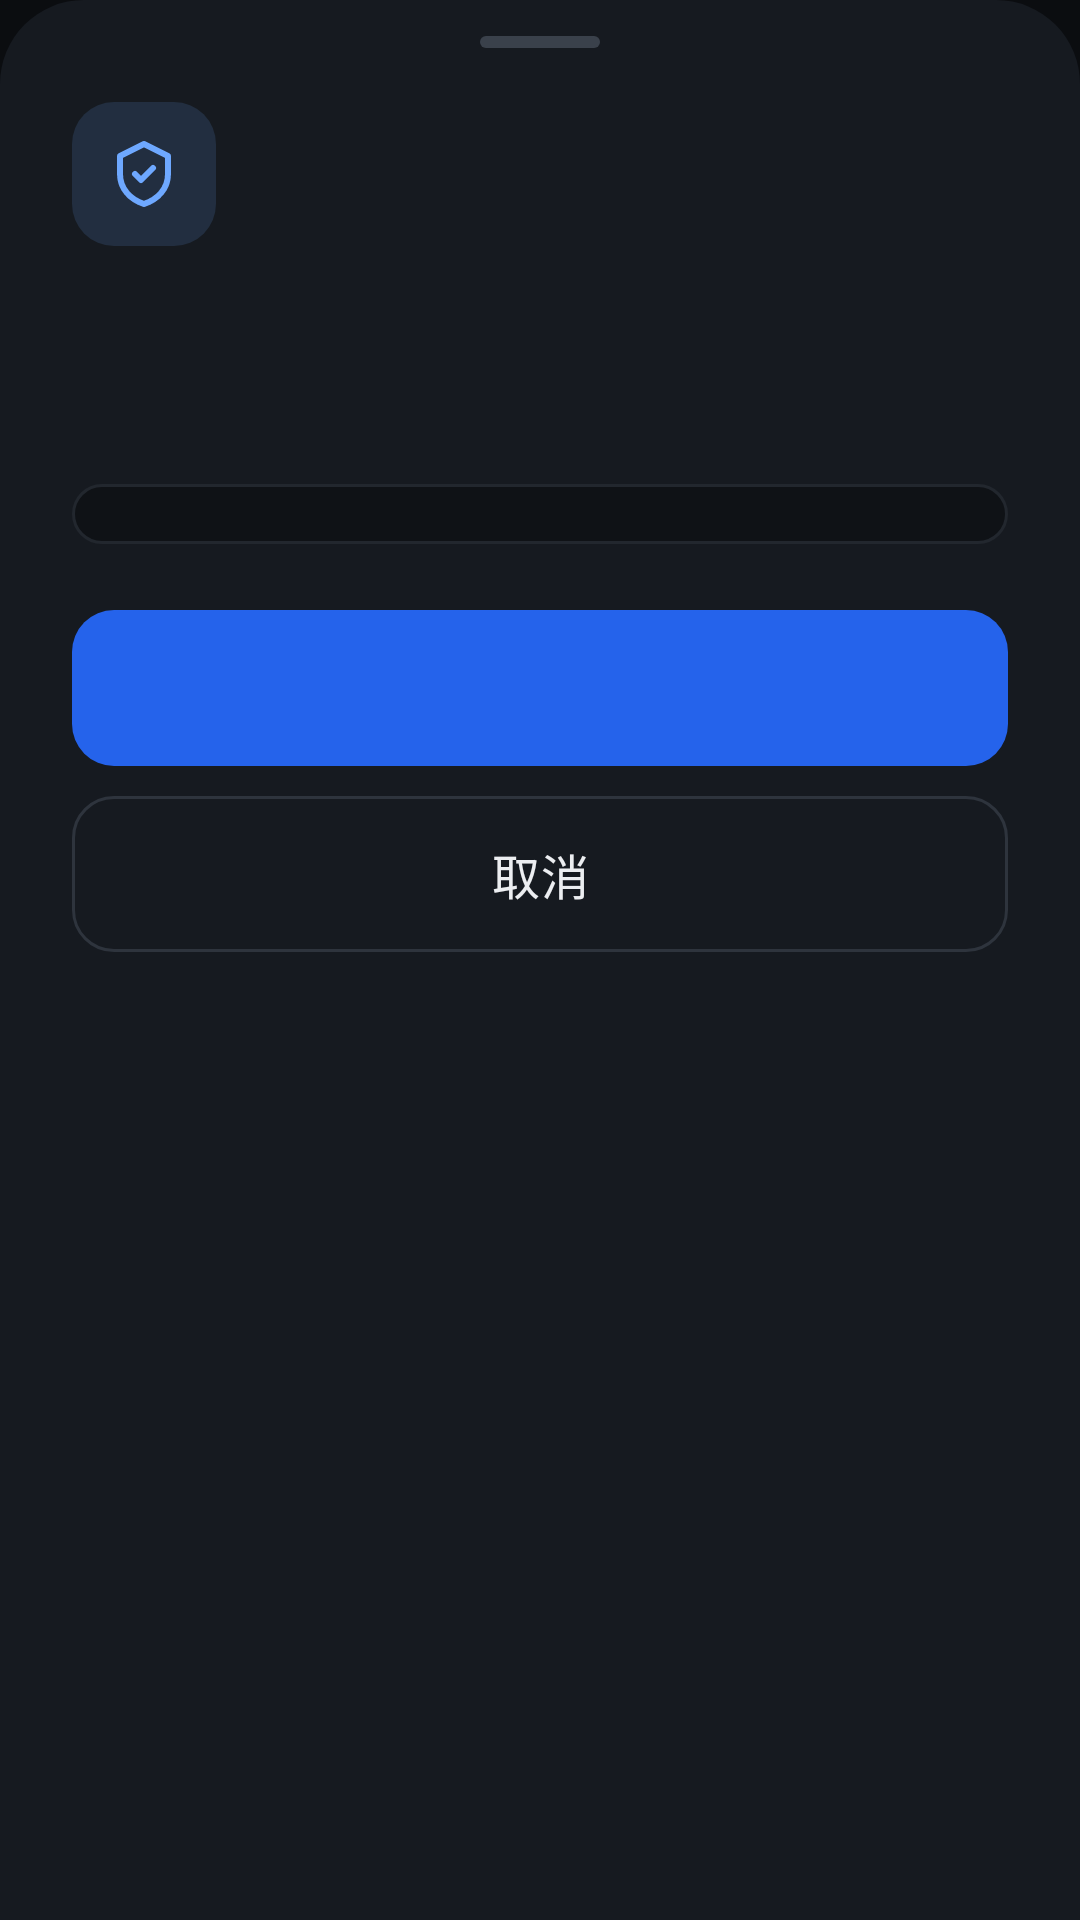

Named icons in this screenshot (1080*1920) and their bounding boxes, (x1, y1, x2, y2):
shield: (72, 102, 216, 246)
